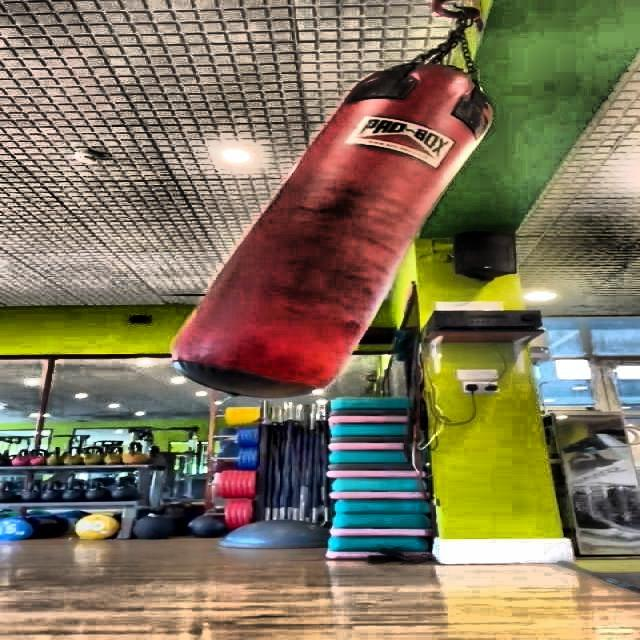boxing-bag: (176, 12, 490, 410)
